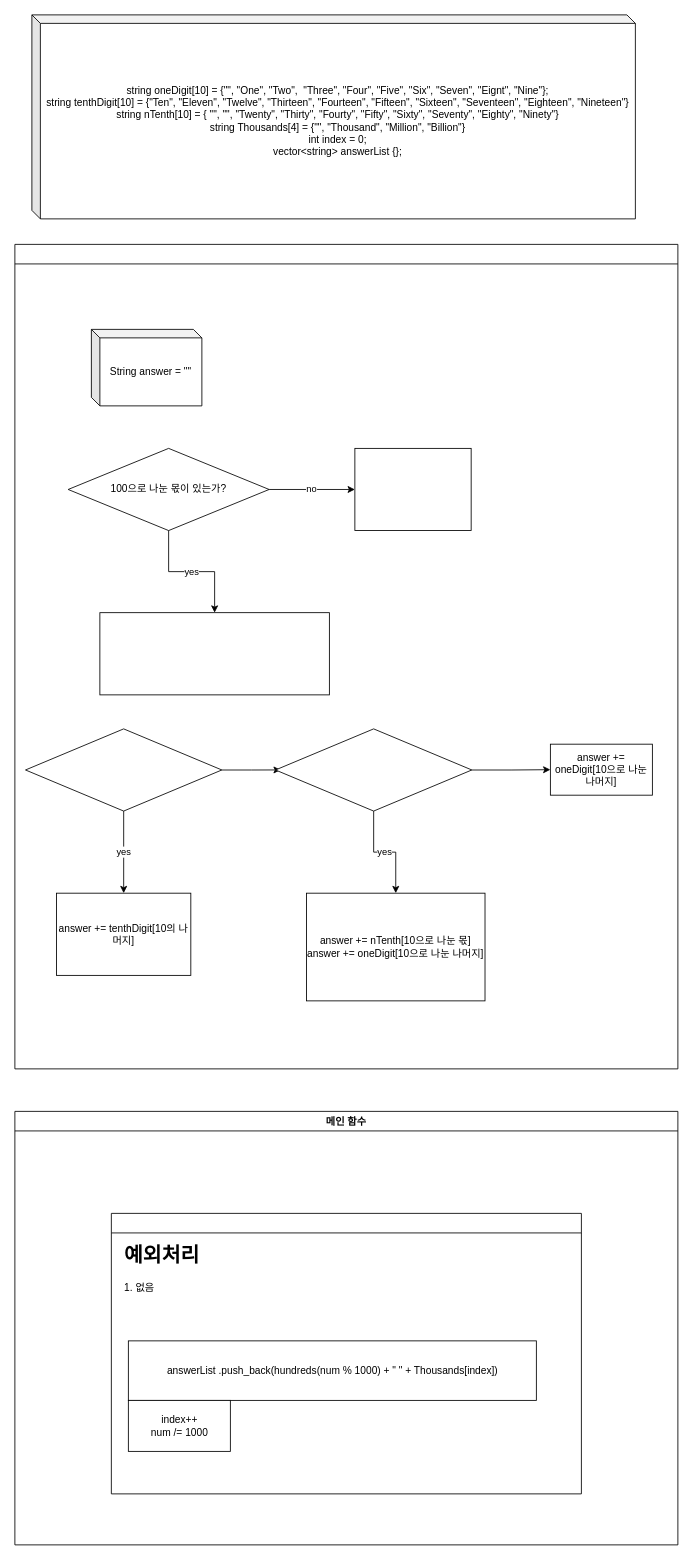
Image size: 693x1560. Some labels were removed from this diagram. The box of each missing label's shape, as (x1, y1, x2, y2) in pixels:
0이 아닌가?: (275, 728, 472, 811)
100단위 처리 함수 (int) -> String: (14, 244, 678, 1069)
10으로 나눈 목이 1인가?: (25, 728, 222, 811)
answer += oneDigit[몫] + " " + "Hundred";: (99, 612, 329, 695)
num이 있을 동안 반복: (110, 1213, 581, 1494)
